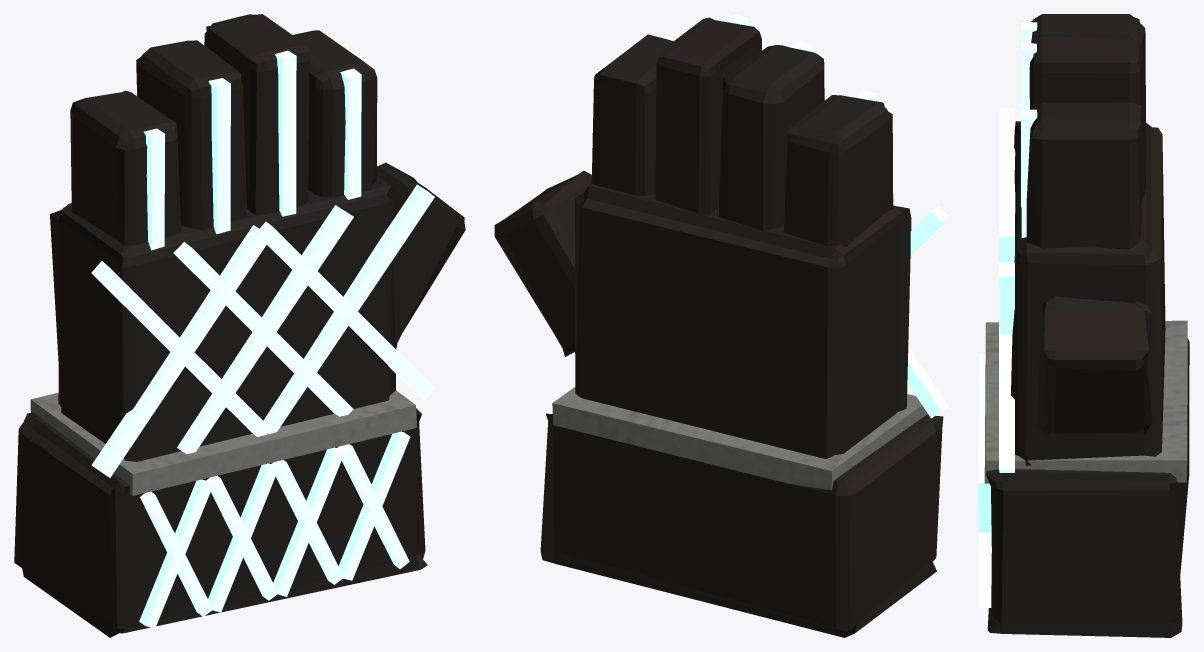
Rendered from starweave_gloves.glb.
3 renders of one model, left to right at view 1: azimuth 30°, elevation 25°; view 2: azimuth 150°, elevation 25°; view 3: azimuth 270°, elevation 25°, orthographic.
Visible parts, largest first — view 1: StarweaveGloves; view 2: StarweaveGloves; view 3: StarweaveGloves.
Boxes of the visible parts, <box> form: StarweaveGloves: <box>14,14,465,637</box>; StarweaveGloves: <box>494,14,949,637</box>; StarweaveGloves: <box>978,14,1189,637</box>.
Size of the model in its own units: 0.4046 by 0.5244 by 0.1872.
3 materials, 1 textured.
